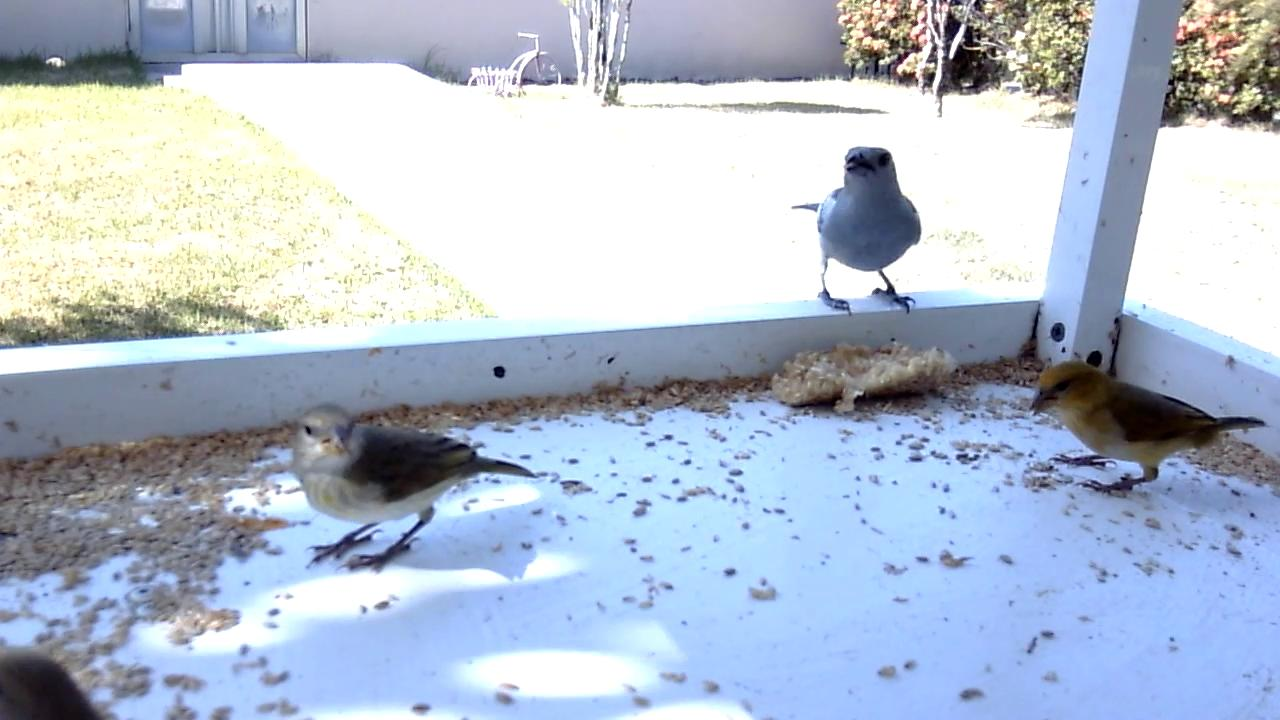canario_do_amazonas: (286, 398, 540, 580), (1029, 358, 1270, 502)
sanhaco_da_amazonia: (790, 142, 926, 319)
